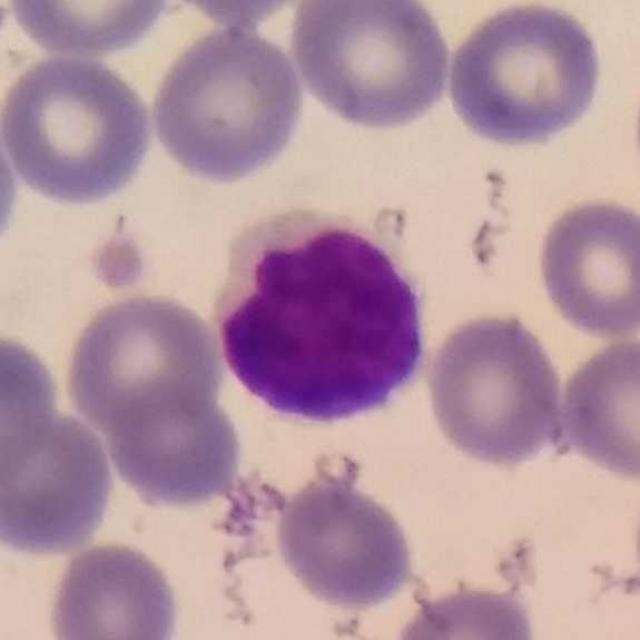Lymphocyte: (208, 212, 438, 432)
Platelets: (82, 212, 155, 296)
RBC: (146, 21, 308, 188), (0, 49, 158, 210), (442, 0, 608, 151), (60, 288, 226, 435), (423, 307, 570, 472), (287, 0, 455, 135), (272, 469, 418, 613), (102, 383, 245, 511), (0, 406, 118, 559), (532, 194, 640, 342), (44, 537, 184, 640), (554, 334, 640, 486), (10, 1, 183, 60), (0, 328, 61, 486), (390, 582, 541, 640), (158, 0, 315, 26), (0, 104, 22, 266)
